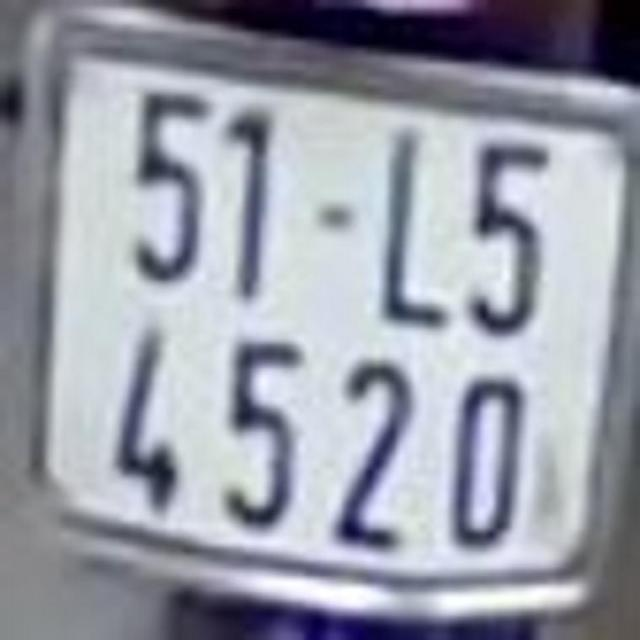0: (446, 364, 526, 551)
1: (219, 96, 277, 296)
2: (333, 351, 416, 553)
4: (112, 315, 184, 527)
5: (222, 330, 308, 543), (468, 128, 552, 338), (133, 79, 211, 294)
L: (379, 114, 453, 336)
